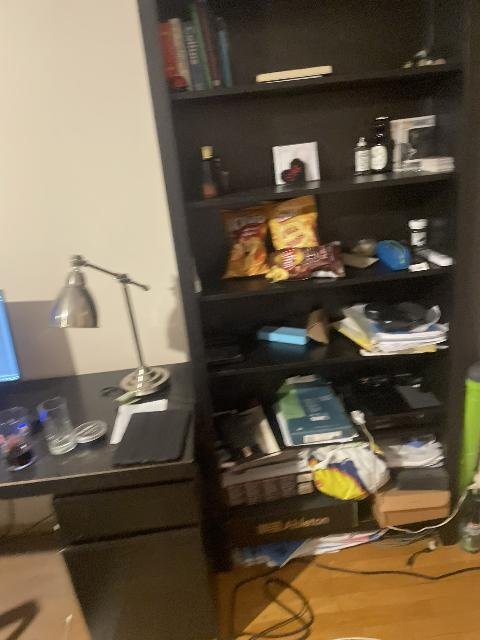Chio Cascaval 125g: (220, 203, 277, 279)
Chio Hula Hoops Cheese 70g: (266, 195, 322, 252)
Lays Beef Grilled Ribs 125g: (264, 240, 344, 280)
